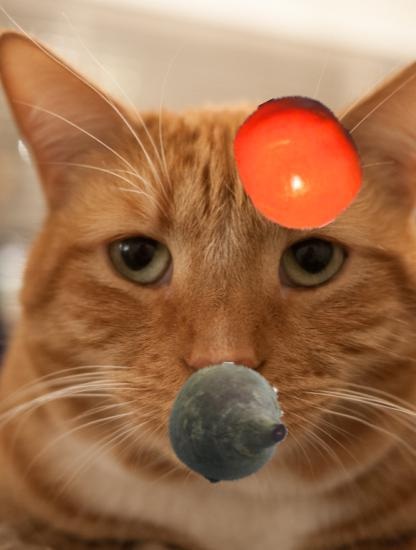Beetroot: (166, 362, 291, 487)
Clementine: (229, 94, 367, 232)
